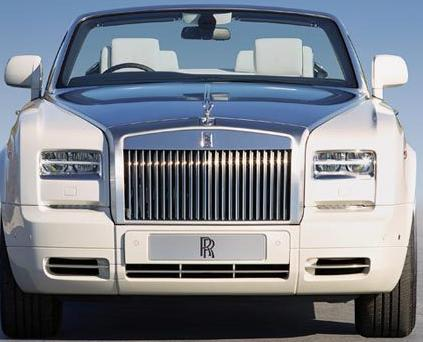front_view: (24, 121, 400, 300)
headlight: (304, 138, 381, 200)
